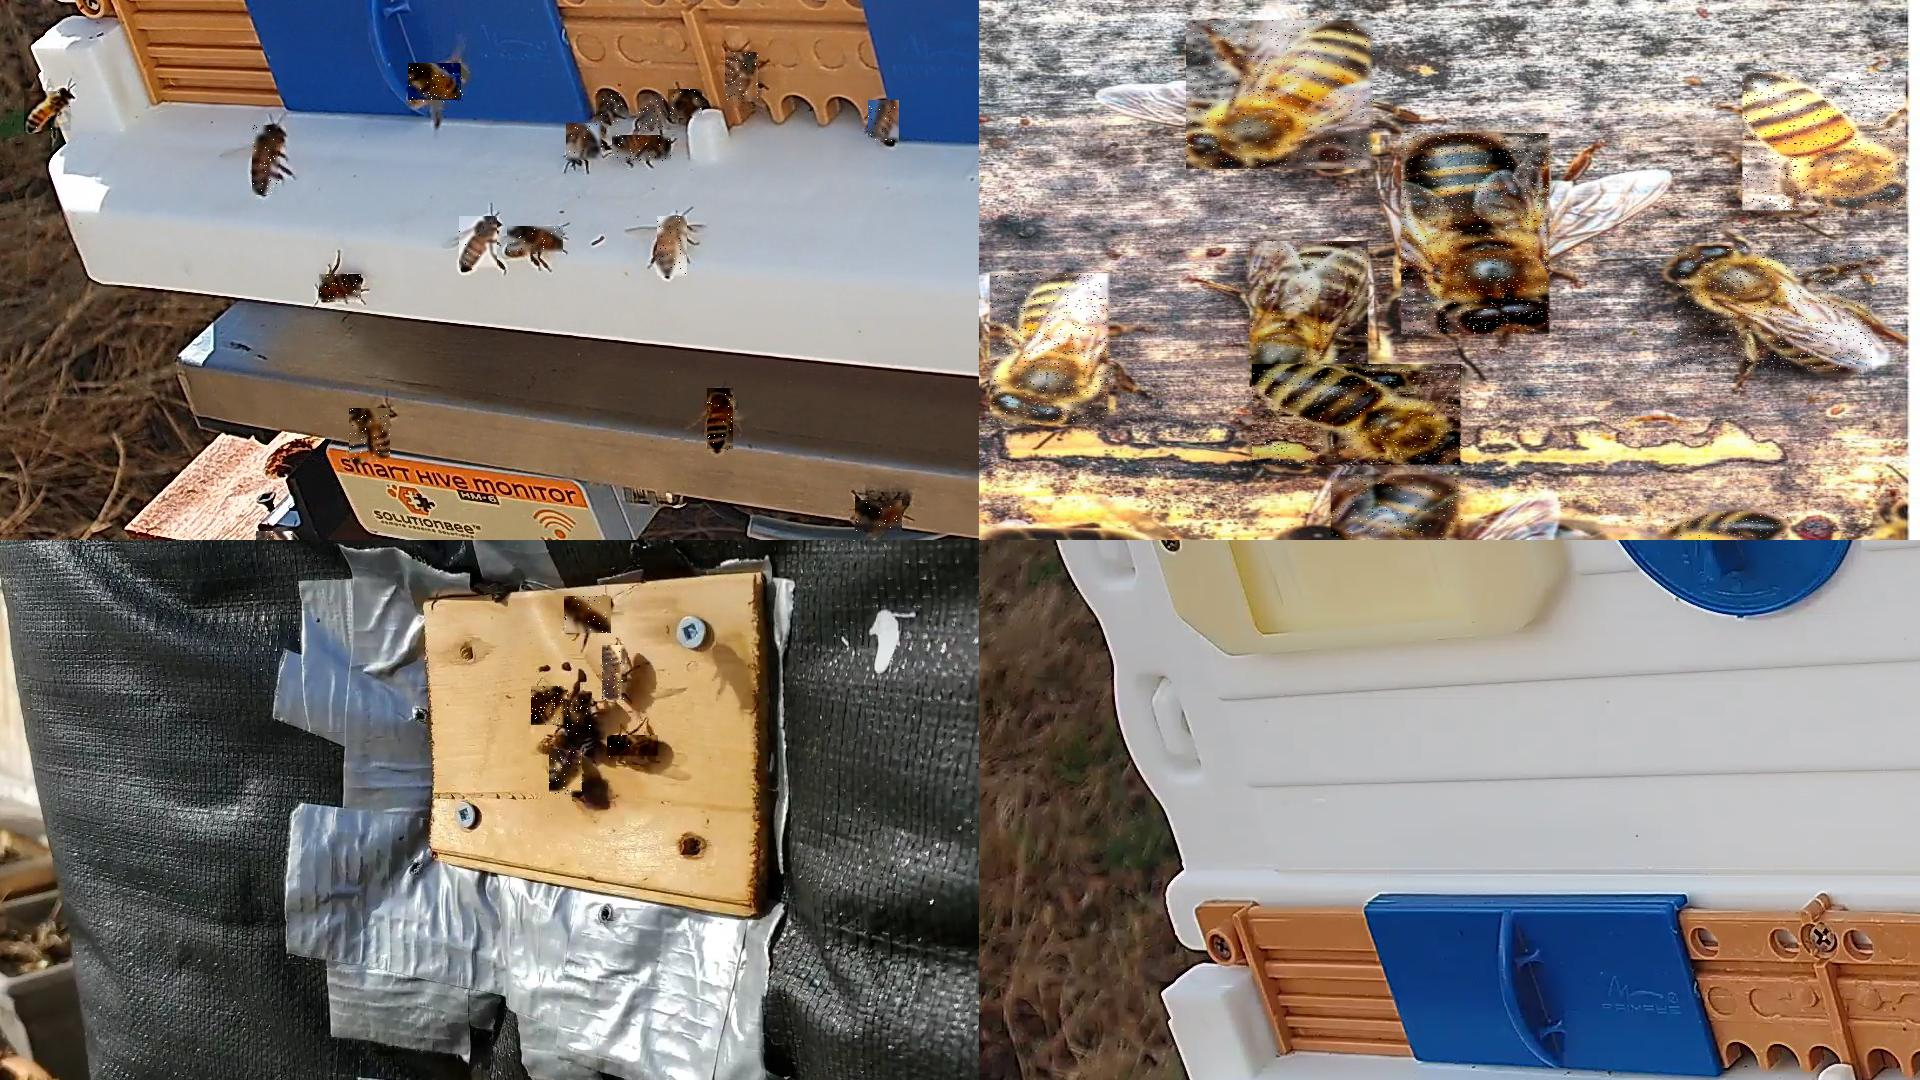bee: (1187, 21, 1377, 170), (1677, 247, 1874, 372), (1743, 73, 1907, 214), (1253, 364, 1466, 468), (990, 273, 1114, 425), (1250, 241, 1370, 388), (1663, 509, 1789, 539), (409, 63, 465, 104), (349, 409, 392, 463), (459, 216, 498, 270), (657, 216, 688, 280), (253, 125, 281, 196), (25, 91, 73, 132), (564, 596, 612, 634), (707, 389, 735, 452), (612, 136, 673, 164), (725, 53, 760, 102), (549, 750, 583, 796), (508, 227, 564, 255), (567, 124, 605, 164), (531, 686, 568, 727), (856, 501, 903, 533), (868, 102, 901, 142), (603, 645, 625, 702), (319, 274, 363, 303), (608, 736, 659, 760), (567, 691, 592, 736), (640, 94, 665, 131), (596, 92, 622, 125), (256, 531, 297, 539)
drone: (1402, 133, 1551, 335), (1331, 475, 1465, 539)
pollenbee: (669, 90, 703, 119)
